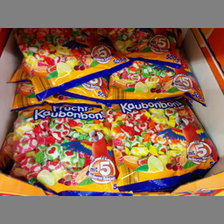candy: (109, 93, 220, 187), (12, 102, 116, 190)
